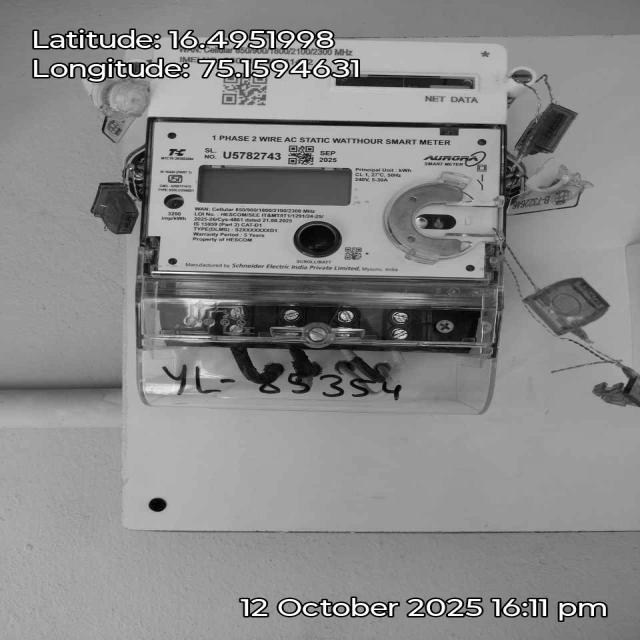meter: (145, 38, 510, 282)
